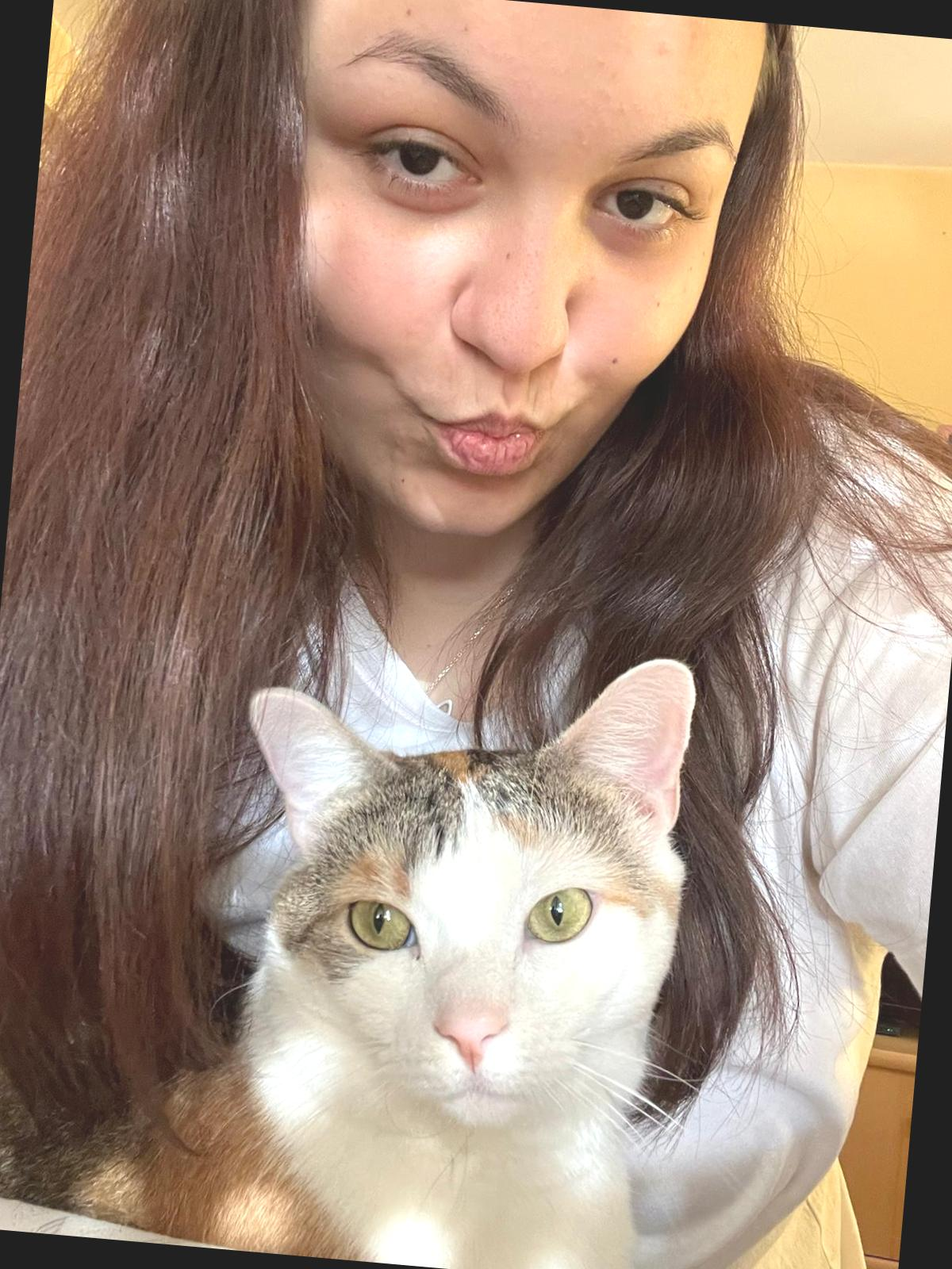macka: (196, 622, 704, 1269)
